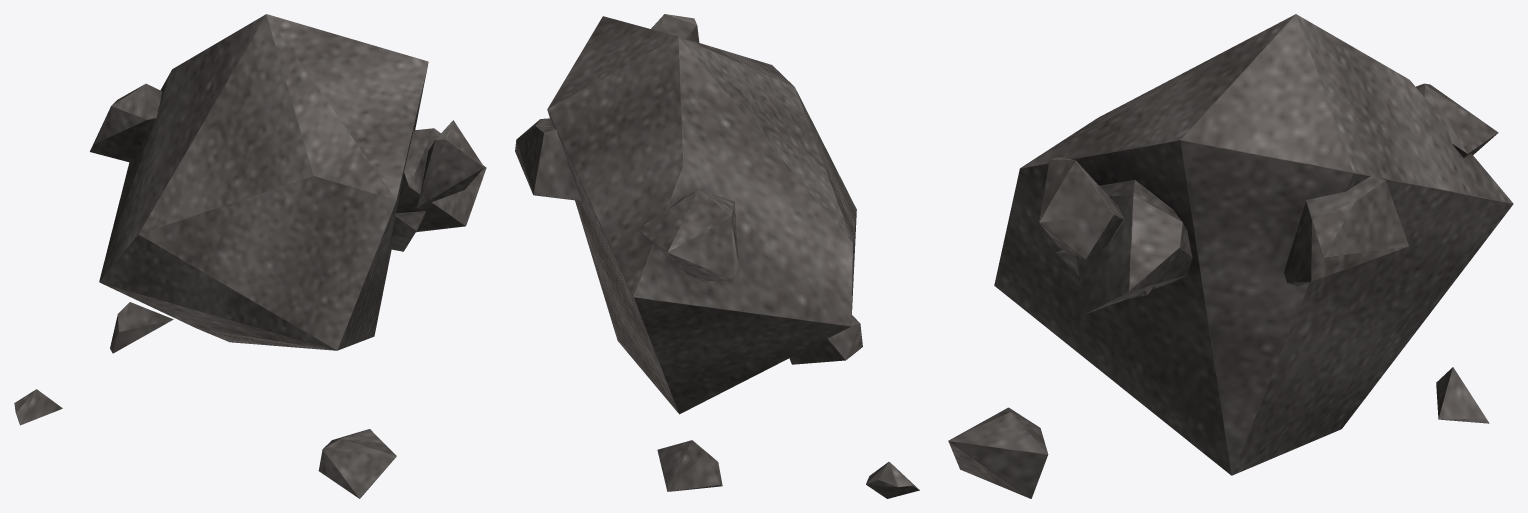
The model's file is boulder_34.glb.
3 renders of one model, left to right at view 1: azimuth 30°, elevation 25°; view 2: azimuth 150°, elevation 25°; view 3: azimuth 270°, elevation 25°, orthographic. The views are drawn at different scales.
Visible parts, largest first — view 1: boulder_34_c0; view 2: boulder_34_c0; view 3: boulder_34_c0.
Part boxes in pixels (box(x1,y1,x2,y2)): boulder_34_c0: box(14, 14, 486, 498); boulder_34_c0: box(515, 14, 919, 498); boulder_34_c0: box(948, 14, 1513, 498).
Bounding box in the file's own units: 2.71 × 2.54 × 2.68.
1 material, 1 textured.
